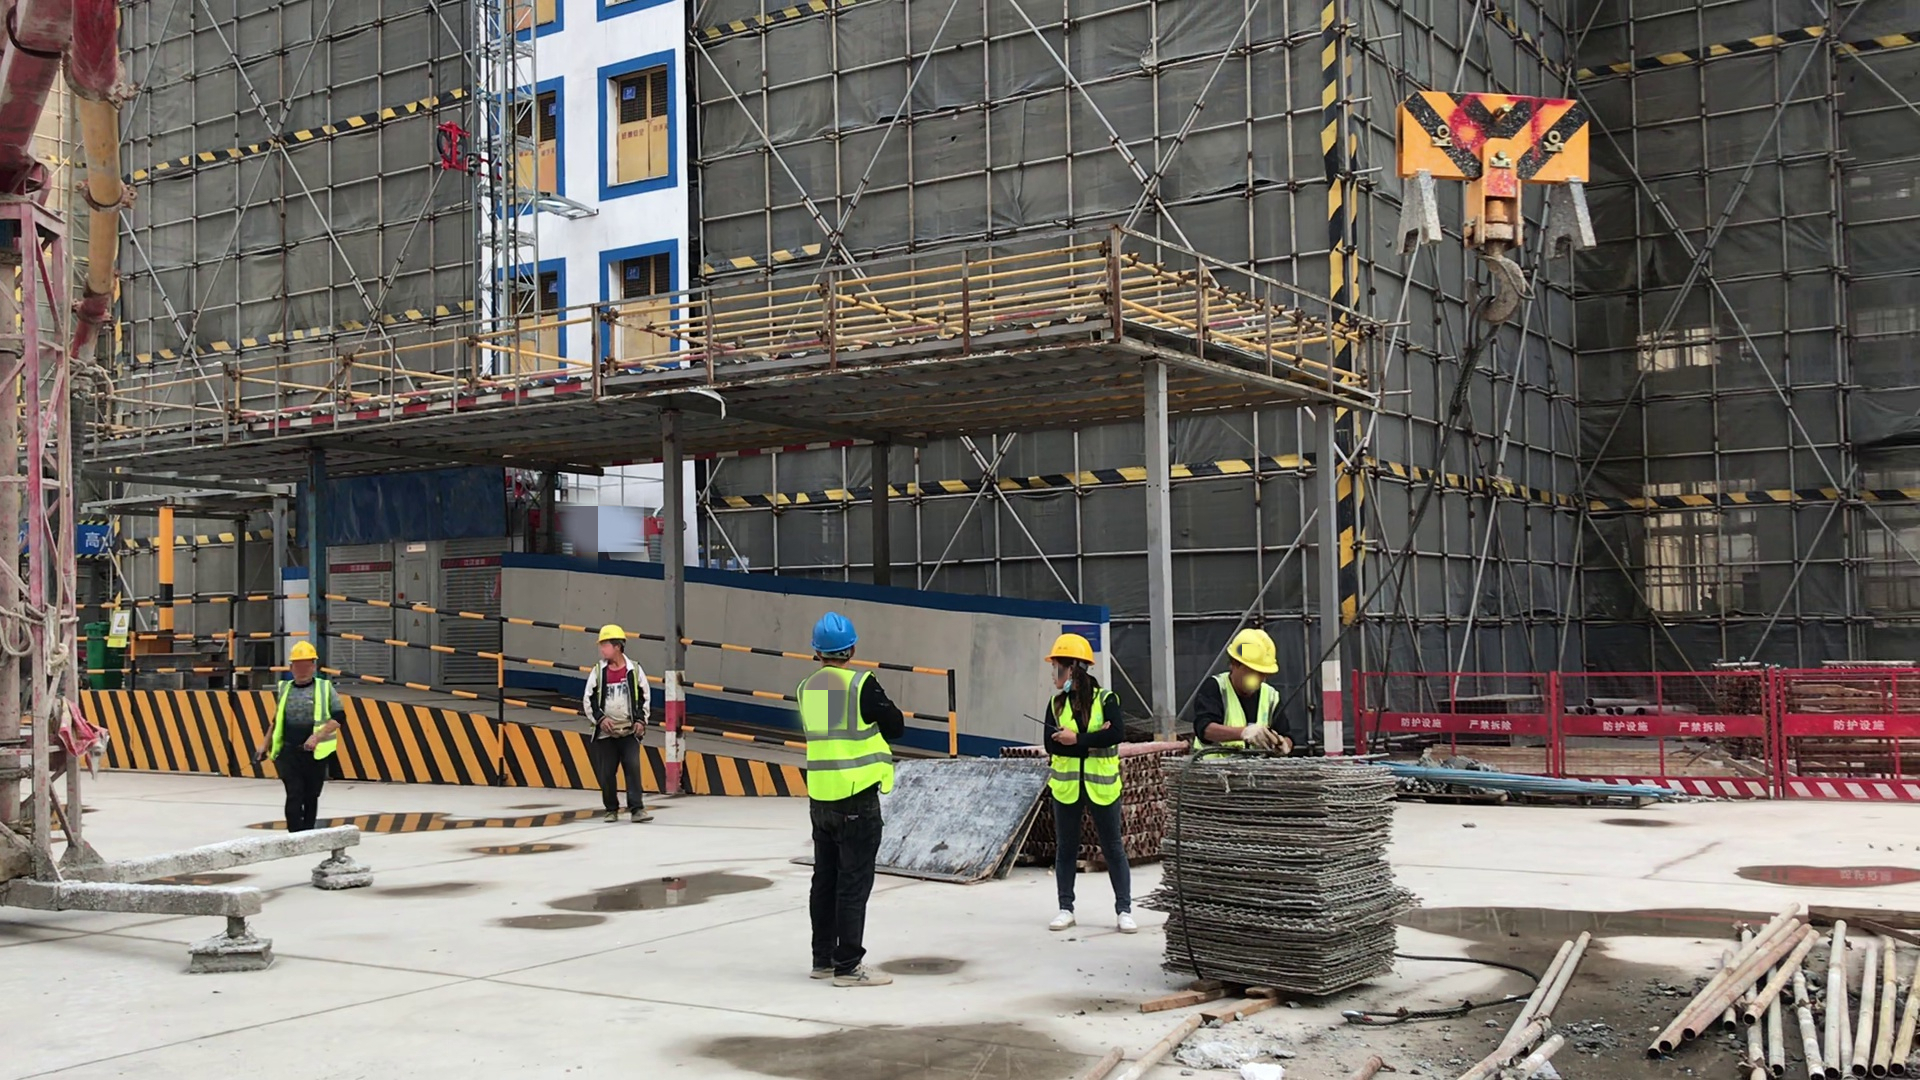helmet: (1226, 630, 1280, 674), (810, 612, 858, 656), (1047, 633, 1096, 668), (285, 641, 319, 668), (597, 623, 627, 645)
person: (794, 609, 904, 991), (1036, 628, 1140, 940), (577, 620, 655, 827), (265, 637, 344, 830), (1186, 621, 1294, 757)
vest: (799, 668, 894, 799), (1047, 692, 1123, 804), (271, 678, 338, 762), (1215, 674, 1280, 749)
